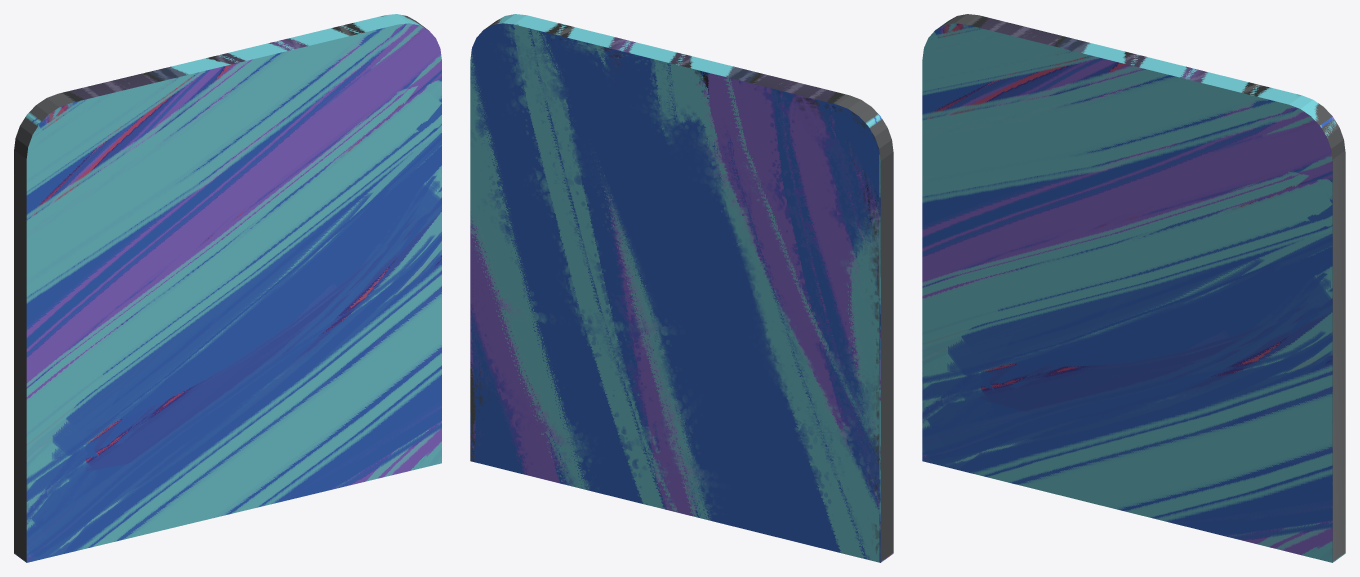
Rendered from puerta.fbx.
3 views of the same model, side by side, from view 1: azimuth 30°, elevation 25°; view 2: azimuth 150°, elevation 25°; view 3: azimuth 330°, elevation 25° (orthographic).
Visible parts, largest first — view 1: Cube.131; view 2: Cube.131; view 3: Cube.131.
Part boxes in pixels (bbox=[...]): Cube.131: bbox=[14, 14, 441, 562]; Cube.131: bbox=[470, 14, 893, 562]; Cube.131: bbox=[922, 14, 1345, 562].
Bounding box in the file's own units: 635 × 660 × 38.54.
